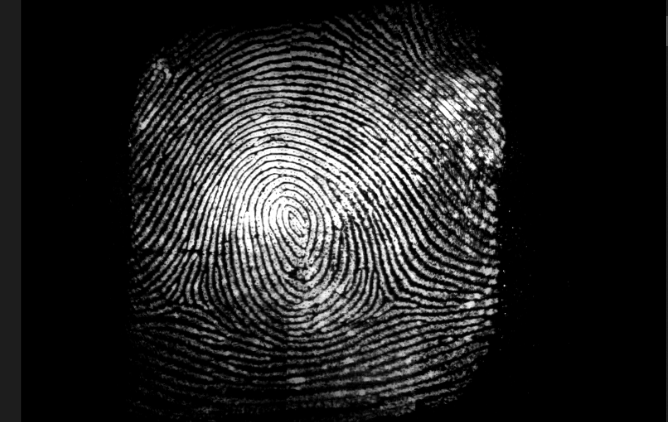nucelo: (278, 201, 309, 247)
verticilo: (166, 278, 200, 316), (370, 283, 405, 315)
